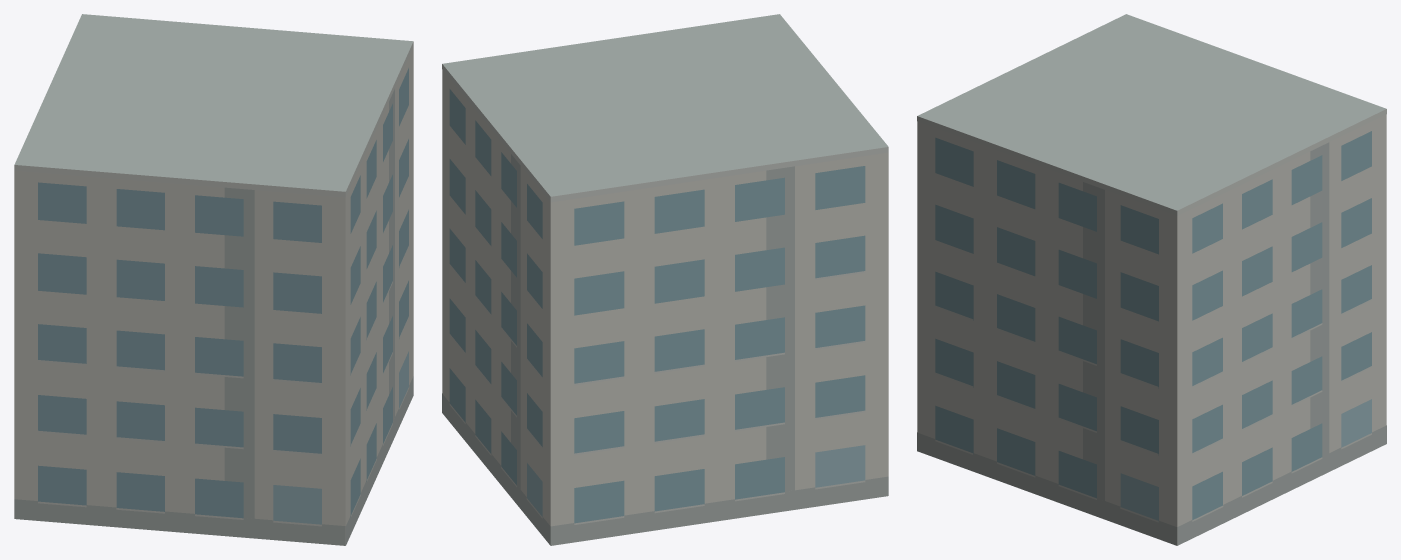
File: survey-upis-32854227.glb
The picture shows the model from 3 angles, left to right: view 1: azimuth 30°, elevation 25°; view 2: azimuth 150°, elevation 25°; view 3: azimuth 270°, elevation 25°; orthographic projection. The views are drawn at different scales.
Visible parts, largest first — view 1: survey-upis-32854227.tmp; view 2: survey-upis-32854227.tmp; view 3: survey-upis-32854227.tmp.
Boxes of the visible parts, box(x1,y1,x2,y2) form: survey-upis-32854227.tmp: box(14, 14, 413, 545); survey-upis-32854227.tmp: box(442, 14, 888, 545); survey-upis-32854227.tmp: box(917, 14, 1386, 545).
Size of the model in its own units: 19.21 by 15.25 by 19.37.
